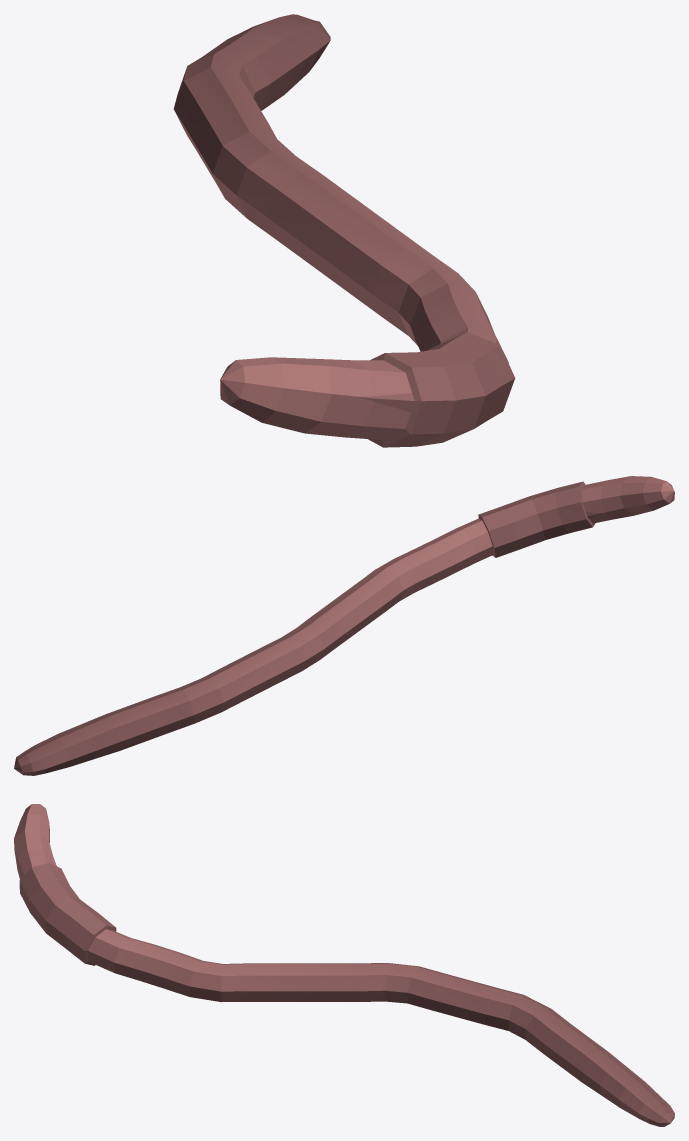
Rendered from gusanomk2 (1).fbx.
3 renders of one model, top to bottom at view 1: azimuth 30°, elevation 25°; view 2: azimuth 150°, elevation 25°; view 3: azimuth 270°, elevation 25°, orthographic. The views are drawn at different scales.
Visible parts, largest first — view 1: Gusano; view 2: Gusano; view 3: Gusano.
Part boxes in pixels (bbox=[...]): Gusano: bbox=[173, 14, 515, 447]; Gusano: bbox=[14, 476, 674, 775]; Gusano: bbox=[14, 804, 674, 1126].
Size of the model in its own units: 13.46 by 5.43 by 21.07.
Materials: 1 (1 with a texture image).
